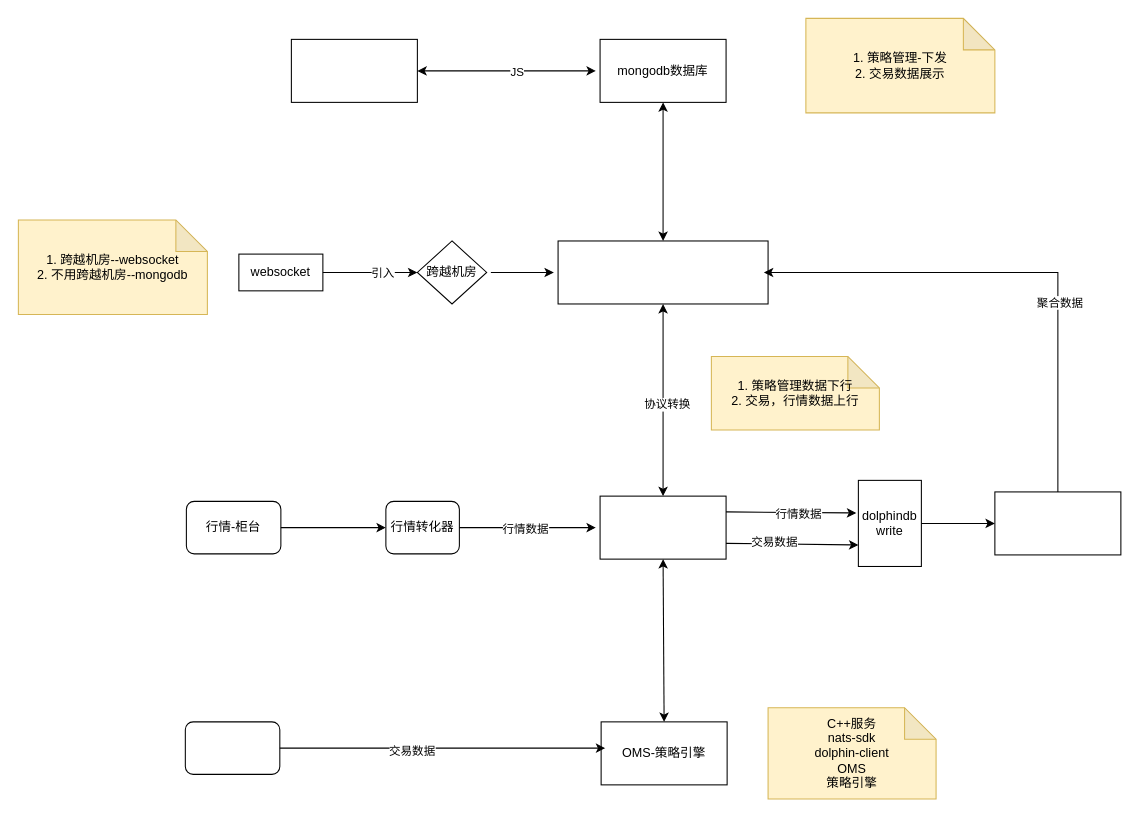
Image size: 1139x818. Some labels were removed from this diagram. Here are the shapes that lost their labels. From the top down, the centre of each, then its label:
At (x=353, y=70): "活字格-前端 展示".
At (x=662, y=272): "data-transfer服务".
At (x=662, y=527): "nats-中间件".
At (x=1057, y=523): "dolphindb-计算引擎".
At (x=232, y=747): "交易-柜台".
